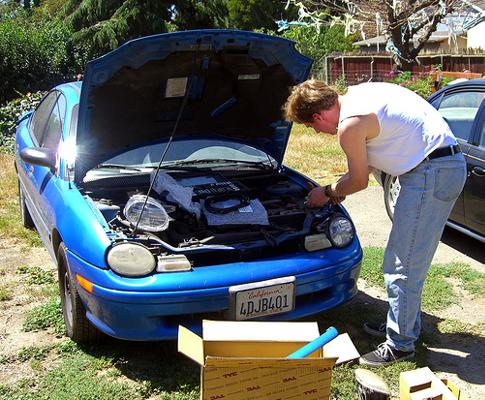person: (287, 78, 470, 369)
